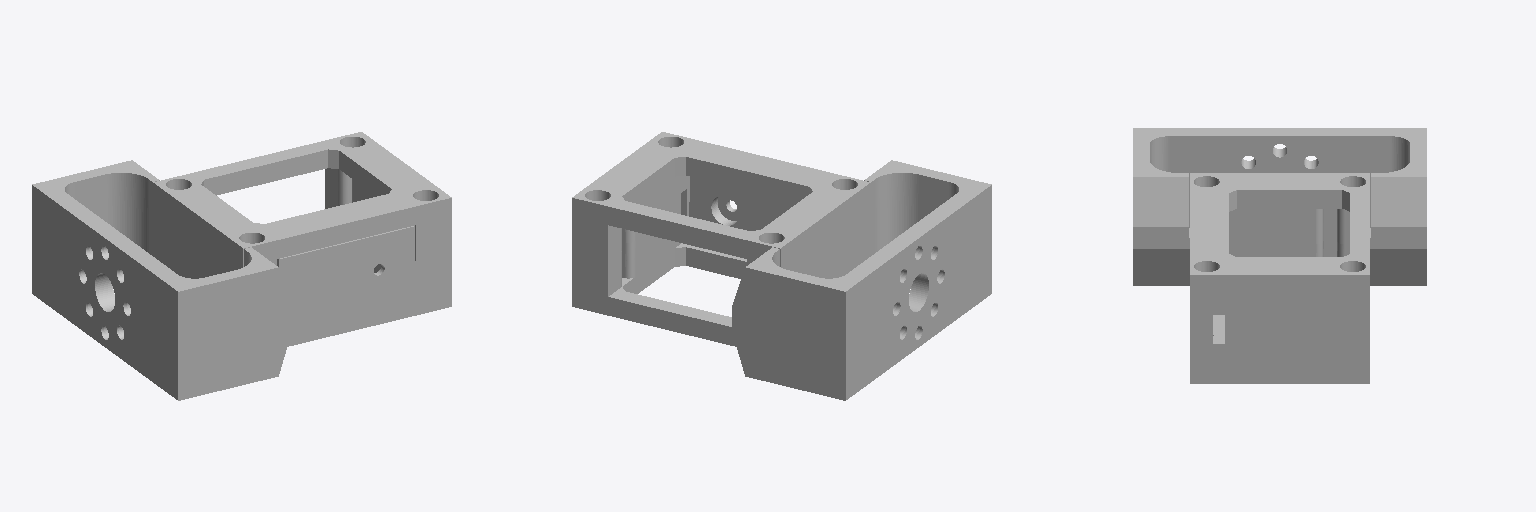
The model's file is EDMO1-1_Body.obj.
3 renders of one model, left to right at view 1: azimuth 30°, elevation 25°; view 2: azimuth 150°, elevation 25°; view 3: azimuth 270°, elevation 25°, orthographic.
Parts seen in each view (by area): view 1: EDMO1-1_Body; view 2: EDMO1-1_Body; view 3: EDMO1-1_Body.
Boxes of the visible parts, x1=… form: EDMO1-1_Body: x1=32, y1=132, x2=451, y2=400; EDMO1-1_Body: x1=572, y1=132, x2=991, y2=400; EDMO1-1_Body: x1=1133, y1=128, x2=1426, y2=383.
Size of the model in its own units: 4.34 by 1.5 by 3.65.